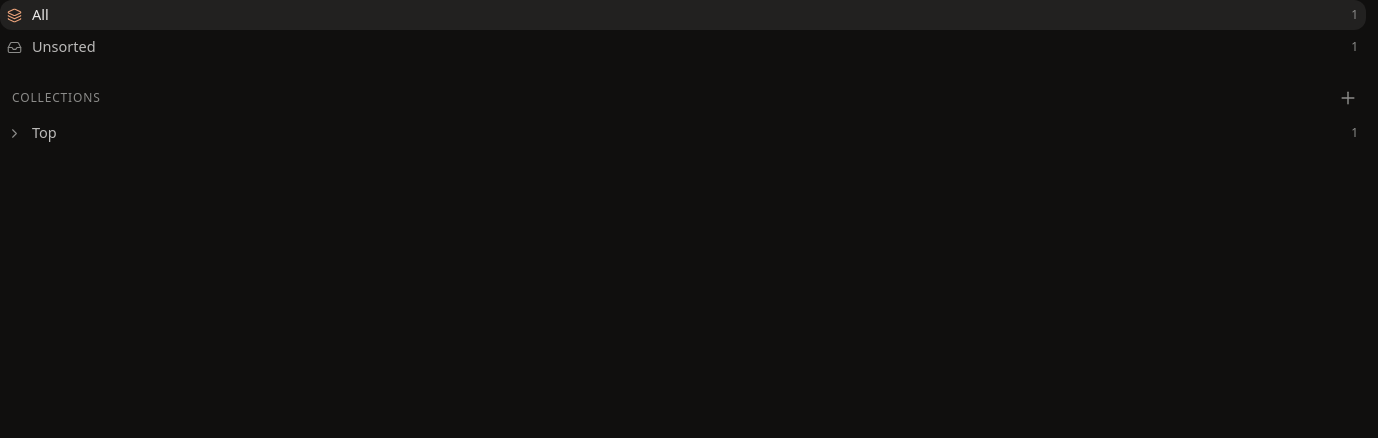
Scenario: CollectionTree › expands a collapsed parent when a subcollection is started in it
expect the text "Child" is not shown: met
Right-click the list item "Top 1".
right_click(44, 132)  # box left=0, top=118, right=1366, bottom=148
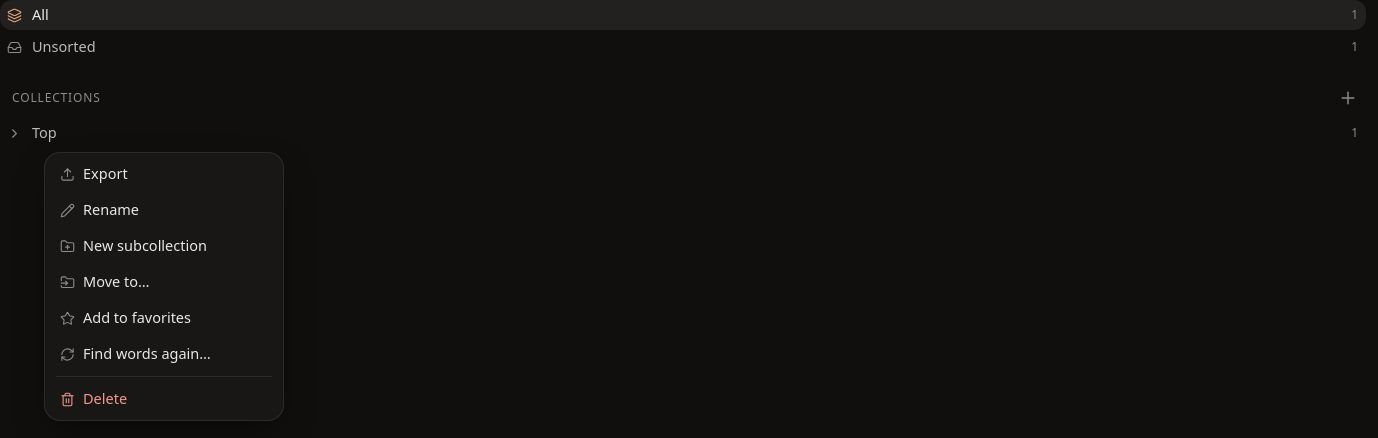
Click the menu item "New subcollection".
click(164, 246)  # box left=48, top=228, right=280, bottom=264
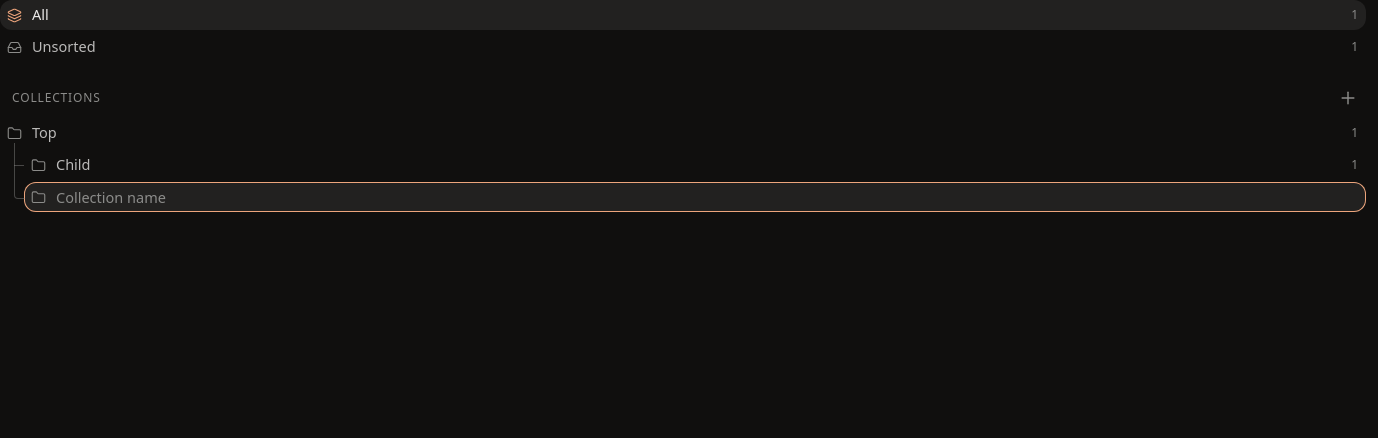
expect the text "Child" is shown: met, box left=56, top=154, right=90, bottom=174
expect the field with placeholder "Collection name" is shown: met, box left=56, top=182, right=1336, bottom=212
